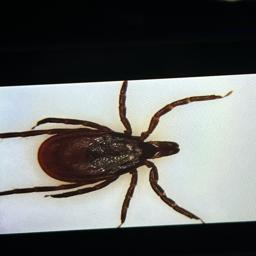Ixodes scapularis: (0, 88, 232, 234)
